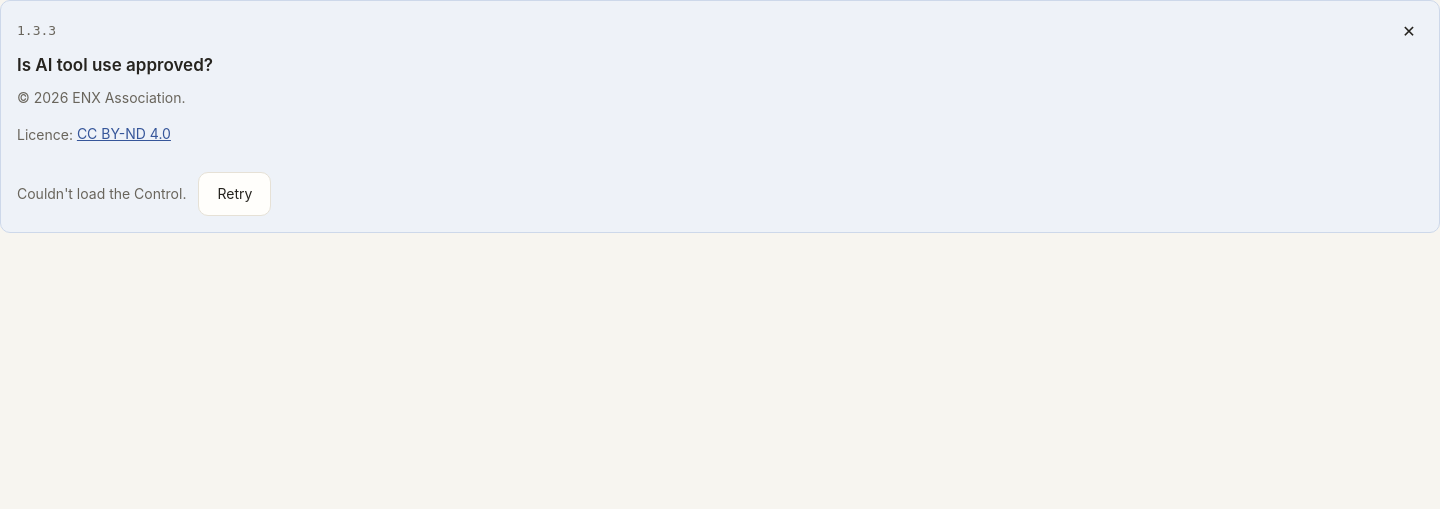
Test: the read › no answer shows Couldn't load the Control. with Retry, busy while it runs; Retry asks again and shows the card
This screenshot has width=1440, height=509.
Later steps or results of the test are not shown.
Expected: the text "Couldn't load the Control." is shown, x1=17 y1=183 x2=186 y2=204
Click the button with aria-label "Retry the Control" at (235, 194), box x1=198 y1=172 x2=271 y2=216
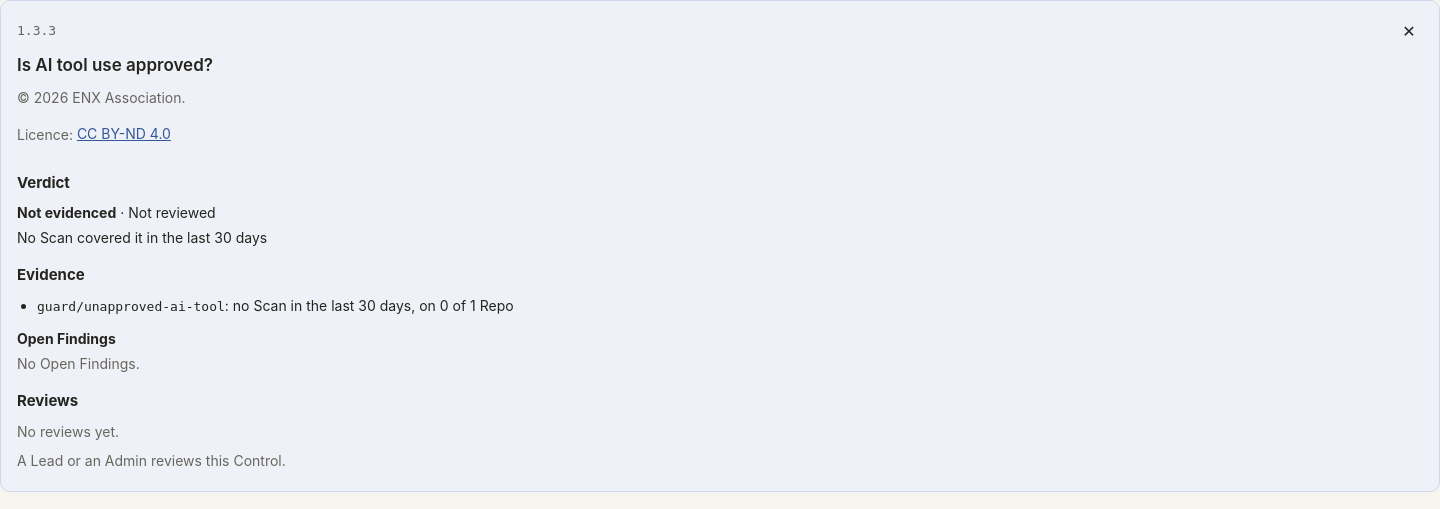
Expected: the text "Couldn't load the Control." is gone
